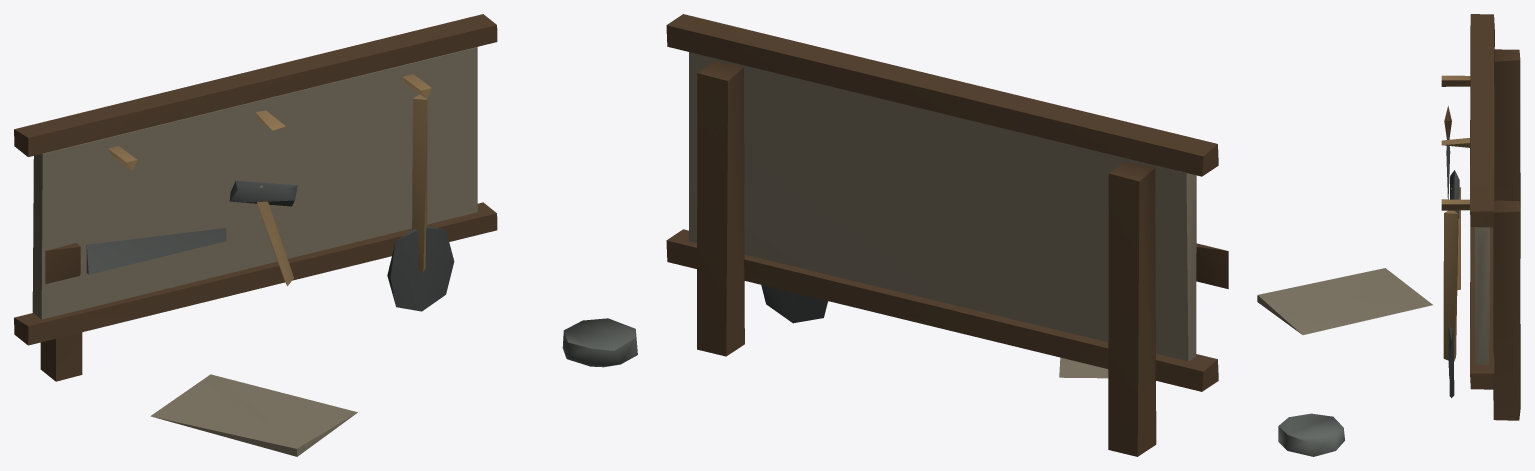
File: tool_peg_b_lod2.glb
The picture shows the model from 3 angles, left to right: view 1: azimuth 30°, elevation 25°; view 2: azimuth 150°, elevation 25°; view 3: azimuth 270°, elevation 25°; orthographic projection. The views are drawn at different scales.
Visible parts, largest first — view 1: Surface.001; view 2: Surface.001; view 3: Surface.001.
Boxes of the visible parts, x1=… form: Surface.001: x1=14, y1=14, x2=637, y2=456; Surface.001: x1=666, y1=14, x2=1228, y2=456; Surface.001: x1=1257, y1=14, x2=1520, y2=456.
Bounding box in the file's own units: 3.14 × 1.55 × 1.62.
